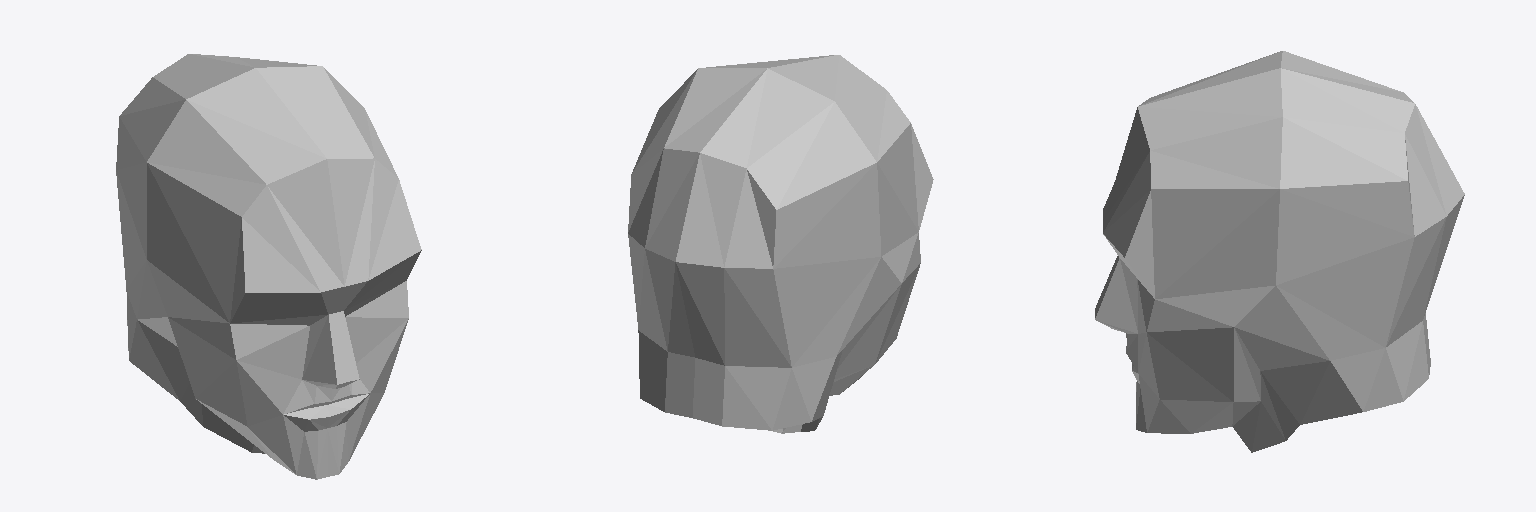
The model's file is alt_sculpture.obj.
3 renders of one model, left to right at view 1: azimuth 30°, elevation 25°; view 2: azimuth 150°, elevation 25°; view 3: azimuth 270°, elevation 25°, orthographic.
Parts seen in each view (by area): view 1: Plane_Plane.000; view 2: Plane_Plane.000; view 3: Plane_Plane.000.
Boxes of the visible parts, x1,y1,x2,y2 form: Plane_Plane.000: [116, 54, 421, 479]; Plane_Plane.000: [628, 55, 933, 433]; Plane_Plane.000: [1095, 51, 1464, 452].
Bounding box in the file's own units: 5.05 × 8.15 × 7.27.